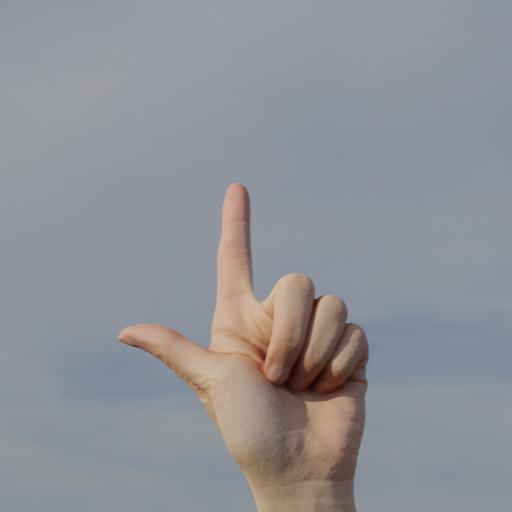L: (110, 179, 376, 502)
